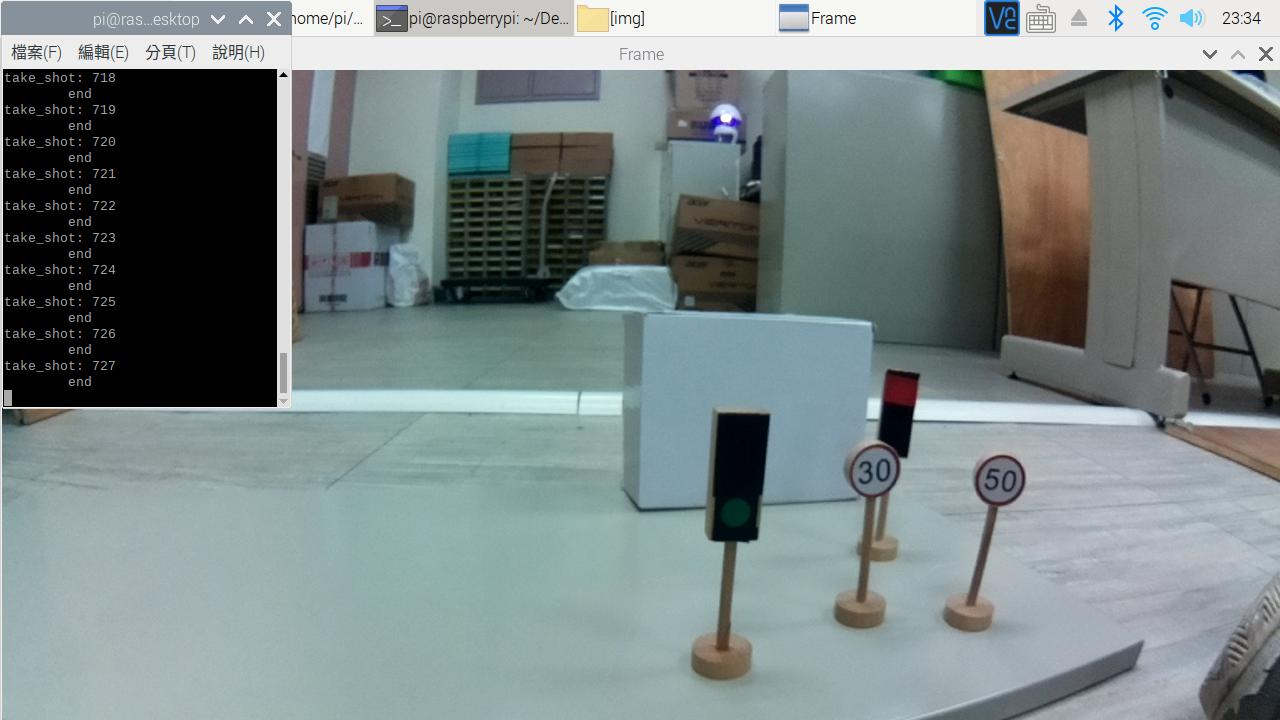Green: (711, 407, 757, 543)
Red: (883, 366, 914, 442)
Speed30: (847, 439, 901, 505)
Speed50: (974, 451, 1027, 512)
